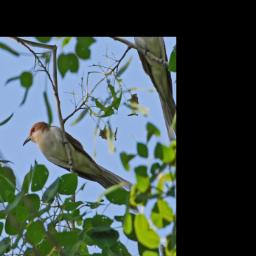Cuckoo: (19, 85, 149, 256)
